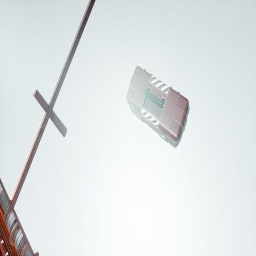FirstAidBox ,: (126, 66, 189, 148)
